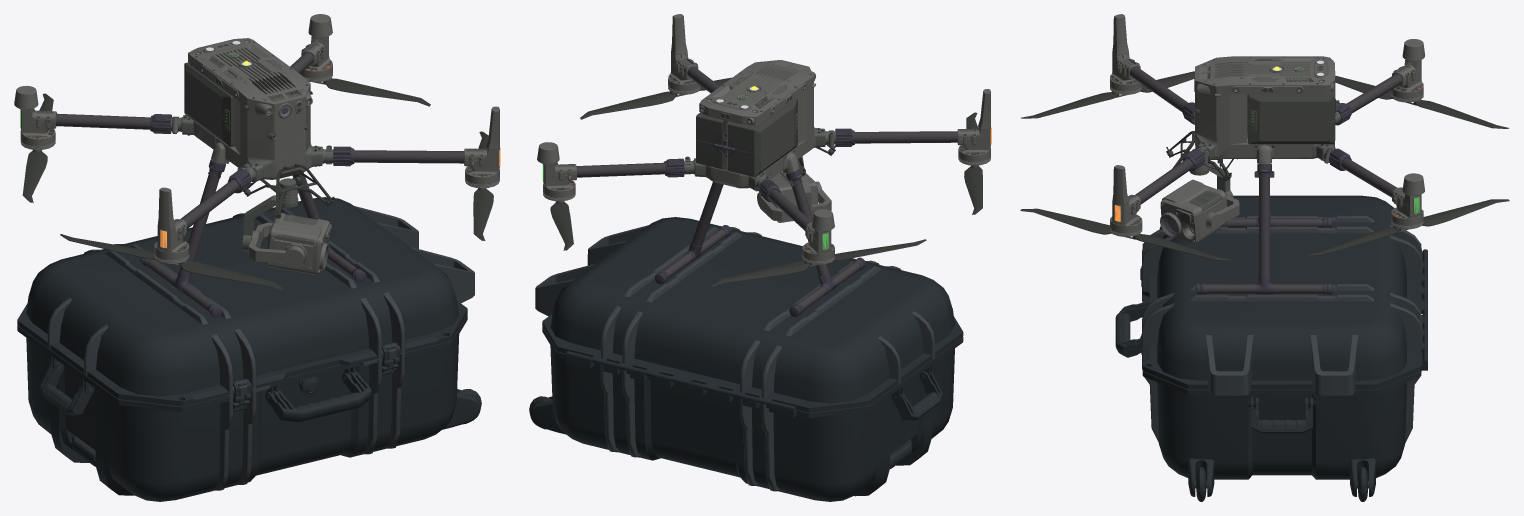
The model's file is dji-matrice-300.glb.
3 views of the same model, side by side, from view 1: azimuth 30°, elevation 25°; view 2: azimuth 150°, elevation 25°; view 3: azimuth 270°, elevation 25° (orthographic). The views are drawn at different scales.
Visible parts, largest first — view 1: polySurface4181_lambert34_0; view 2: polySurface4181_lambert34_0; view 3: polySurface4181_lambert34_0.
Boxes of the visible parts, box(x1,y1,x2,y2) form: polySurface4181_lambert34_0: box(14, 14, 500, 501); polySurface4181_lambert34_0: box(529, 14, 991, 501); polySurface4181_lambert34_0: box(1020, 14, 1509, 501).
Bounding box in the file's own units: 10.31 × 8.98 × 11.04.
6 materials, 6 textured.
